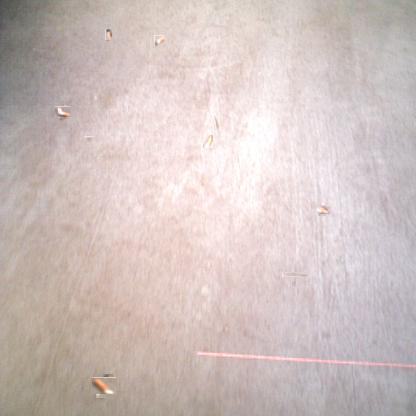dirty: (94, 376, 115, 396), (56, 105, 69, 119), (317, 203, 329, 215), (203, 134, 213, 148), (154, 35, 165, 46), (105, 28, 112, 40)
mark: (287, 267, 303, 282), (214, 117, 220, 133), (86, 135, 93, 143)
